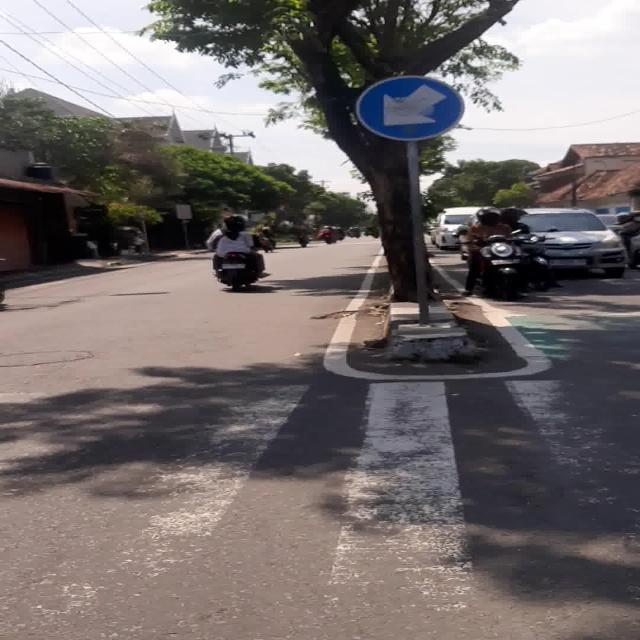Lajur Kiri: (356, 76, 464, 140)
